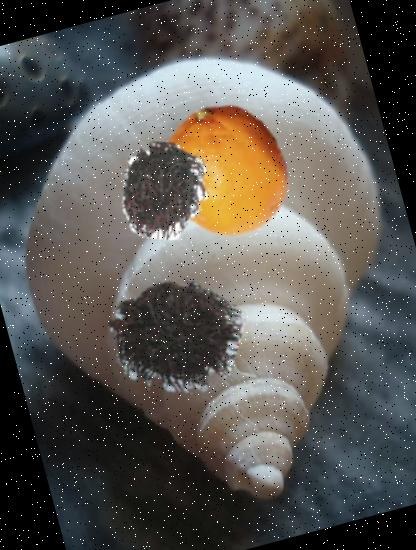Lemon: (142, 86, 311, 255)
Rambutan: (94, 256, 254, 416), (104, 131, 224, 250)
